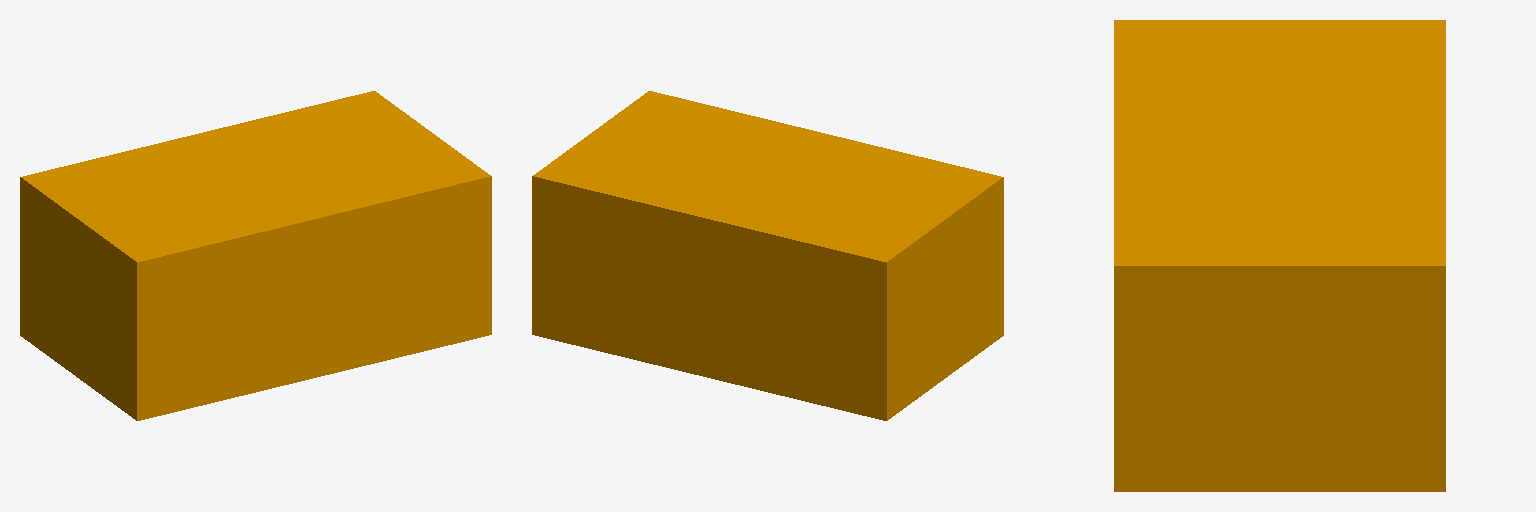
The robot description file, URDF, robot "cuboid_s":
<?xml version="1.0" ?>
<robot name="cuboid_s">

<link name="cuboid_s_base_link">
  <inertial>
    <origin xyz="0.0 0.0 0.0" rpy="0 0 0"/>
    <mass value="0.6594"/>
    <inertia ixx="0.000137" iyy="0.000319" izz="0.000357" ixy="0.0" iyz="0.0" ixz="0.0"/>
  </inertial>
  <visual>
    <origin xyz="0 0 0" rpy="0 0 0"/>
    <geometry>
      <mesh filename="meshes/cuboid_s_base_link.stl" scale="0.001 0.001 0.001"/>
    </geometry>
    <material name="silver"/>
  </visual>
  <collision>
    <origin xyz="0 0 0" rpy="0 0 0"/>
    <geometry>
      <mesh filename="meshes/cuboid_s_base_link.stl" scale="0.001 0.001 0.001"/>
    </geometry>
  </collision>
</link>

<link name="cuboid_s_AP6_1">
  <inertial>
    <origin xyz="2.7652802651728375e-21 0.0 3.469446951953614e-18" rpy="0 0 0"/>
    <mass value="3.288200310757317e-05"/>
    <inertia ixx="0.0" iyy="0.0" izz="0.0" ixy="0.0" iyz="0.0" ixz="0.0"/>
  </inertial>
  
  
</link>

<link name="cuboid_s_AP3_1">
  <inertial>
    <origin xyz="-2.7755575615629184e-19 -2.7755575615628914e-17 1.3322676295501878e-17" rpy="0 0 0"/>
    <mass value="3.288200310757317e-05"/>
    <inertia ixx="0.0" iyy="0.0" izz="0.0" ixy="-0.0" iyz="0.0" ixz="-0.0"/>
  </inertial>
  
  
</link>

<link name="cuboid_s_AP4_1">
  <inertial>
    <origin xyz="0.0 0.0 -2.13037637828406e-18" rpy="0 0 0"/>
    <mass value="3.288200310757317e-05"/>
    <inertia ixx="0.0" iyy="0.0" izz="0.0" ixy="0.0" iyz="0.0" ixz="0.0"/>
  </inertial>
  
  
</link>

<link name="cuboid_s_AP2_1">
  <inertial>
    <origin xyz="-6.938893903907228e-18 0.0 -7.618769556705591e-18" rpy="0 0 0"/>
    <mass value="3.288200310757317e-05"/>
    <inertia ixx="0.0" iyy="0.0" izz="0.0" ixy="0.0" iyz="0.0" ixz="-0.0"/>
  </inertial>
  
  
</link>

<link name="cuboid_s_AP5_1">
  <inertial>
    <origin xyz="-2.7755575615628914e-19 0.0 0.0" rpy="0 0 0"/>
    <mass value="3.288200310757317e-05"/>
    <inertia ixx="0.0" iyy="0.0" izz="0.0" ixy="-0.0" iyz="0.0" ixz="0.0"/>
  </inertial>
  
  
</link>

<link name="cuboid_s_AP1_1">
  <inertial>
    <origin xyz="-7.531818365948778e-18 0.0 -3.469446951953614e-18" rpy="0 0 0"/>
    <mass value="3.288200310757317e-05"/>
    <inertia ixx="0.0" iyy="0.0" izz="0.0" ixy="0.0" iyz="-0.0" ixz="0.0"/>
  </inertial>
  
  
</link>

<joint name="Rigid 1" type="fixed">
  <origin xyz="0.0 0.0 0.015" rpy="0 0 0"/>
  <parent link="cuboid_s_base_link"/>
  <child link="cuboid_s_AP6_1"/>
</joint>

<joint name="Rigid 2" type="fixed">
  <origin xyz="0.0 -0.02 0.0" rpy="0 0 0"/>
  <parent link="cuboid_s_base_link"/>
  <child link="cuboid_s_AP3_1"/>
</joint>

<joint name="Rigid 3" type="fixed">
  <origin xyz="0.035 0.0 0.0" rpy="0 0 0"/>
  <parent link="cuboid_s_base_link"/>
  <child link="cuboid_s_AP4_1"/>
</joint>

<joint name="Rigid 4" type="fixed">
  <origin xyz="-0.035 0.0 0.0" rpy="0 0 0"/>
  <parent link="cuboid_s_base_link"/>
  <child link="cuboid_s_AP2_1"/>
</joint>

<joint name="Rigid 5" type="fixed">
  <origin xyz="0.0 0.02 0.0" rpy="0 0 0"/>
  <parent link="cuboid_s_base_link"/>
  <child link="cuboid_s_AP5_1"/>
</joint>

<joint name="Rigid 6" type="fixed">
  <origin xyz="0.0 0.0 -0.015" rpy="0 0 0"/>
  <parent link="cuboid_s_base_link"/>
  <child link="cuboid_s_AP1_1"/>
</joint>

</robot>

--- Facts derived from the render (not from the file) ---
Views: 3 orthographic renders of the robot side by side, from view 1: azimuth 30°, elevation 25°; view 2: azimuth 150°, elevation 25°; view 3: azimuth 270°, elevation 25°.
Robot: cuboid_s — 7 links, 6 joints (6 fixed); root link cuboid_s_base_link; default pose: every joint at zero.
Links seen in each view (by area): view 1: cuboid_s_base_link; view 2: cuboid_s_base_link; view 3: cuboid_s_base_link.
Link boxes in pixels (<box>): cuboid_s_base_link: <box>20,91,491,420</box>; cuboid_s_base_link: <box>532,91,1003,420</box>; cuboid_s_base_link: <box>1114,20,1445,491</box>.
Bounding box of the posed robot: 0.07 × 0.04 × 0.03 m (x, y, z).
1 mesh visuals loaded from 1 distinct referenced files (1 binary STL).